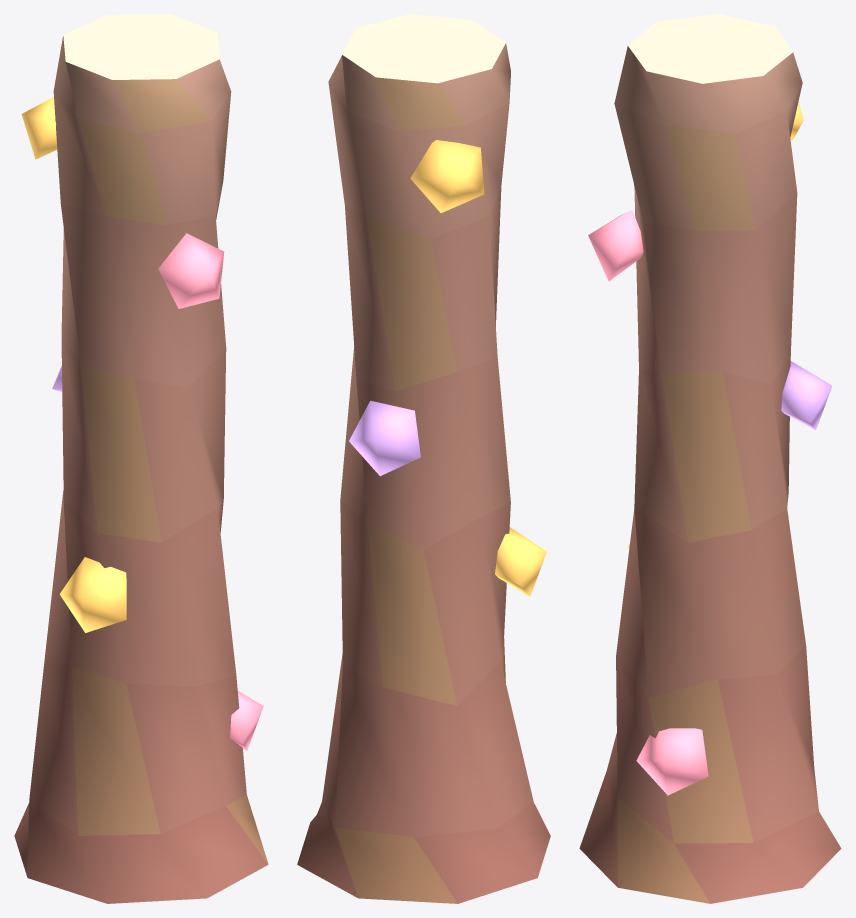
File: coral-pillar.glb
3 views of the same model, side by side, from view 1: azimuth 30°, elevation 25°; view 2: azimuth 150°, elevation 25°; view 3: azimuth 270°, elevation 25° (orthographic).
Visible parts, largest first — view 1: coral-pillar; view 2: coral-pillar; view 3: coral-pillar.
Boxes of the visible parts, x1=… form: coral-pillar: x1=14, y1=14, x2=268, y2=903; coral-pillar: x1=297, y1=14, x2=550, y2=903; coral-pillar: x1=579, y1=14, x2=841, y2=903.
Size of the model in its own units: 3 by 10.1 by 3.
